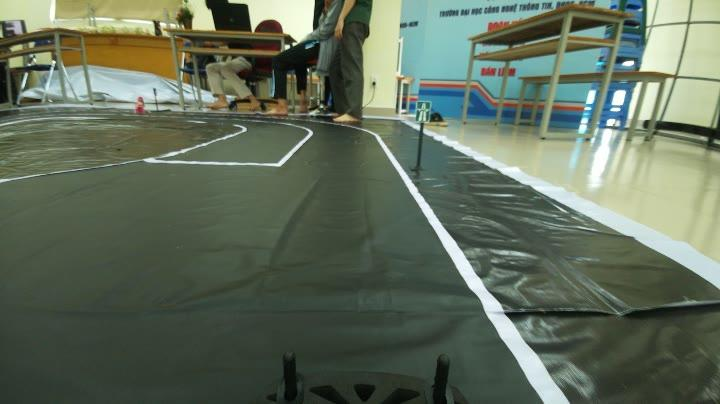highway_entry: (404, 91, 439, 129)
